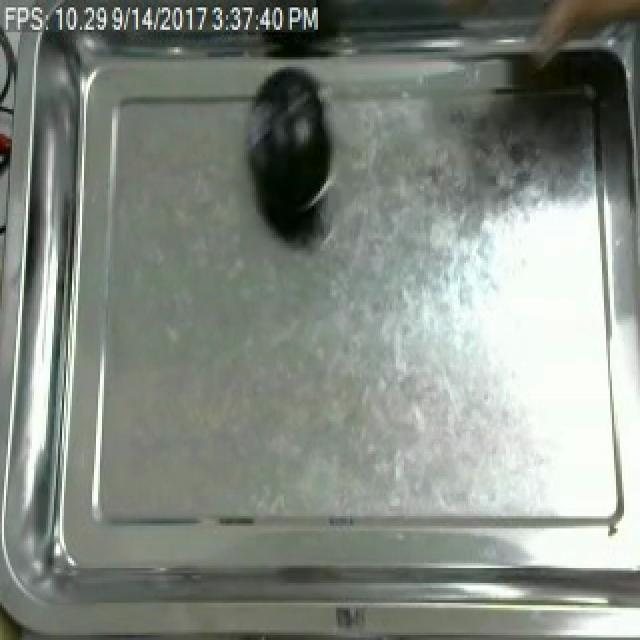Fruit: (244, 62, 334, 221)
